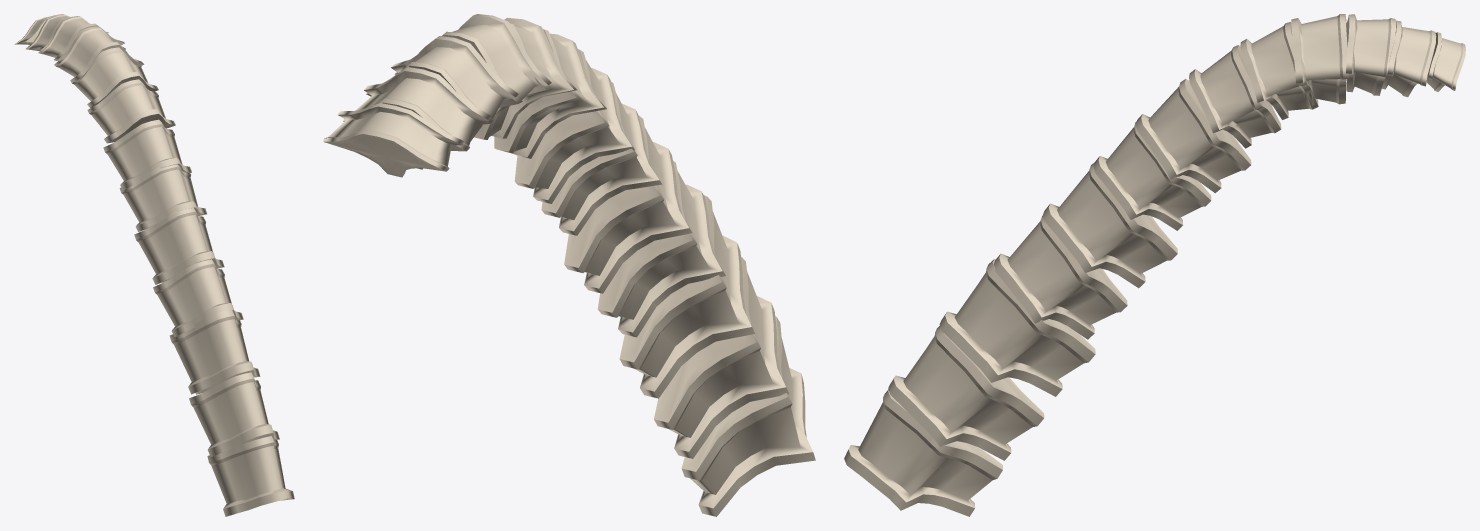
File: Tail.fbx
3 views of the same model, side by side, from view 1: azimuth 30°, elevation 25°; view 2: azimuth 150°, elevation 25°; view 3: azimuth 270°, elevation 25° (orthographic). The views are drawn at different scales.
Visible parts, largest first — view 1: Cola; view 2: Cola; view 3: Cola.
Boxes of the visible parts, x1,y1,x2,y2 form: Cola: (14, 14, 294, 516); Cola: (323, 14, 815, 516); Cola: (844, 14, 1465, 516).
Size of the model in its own units: 2.32 by 11.62 by 13.2.
